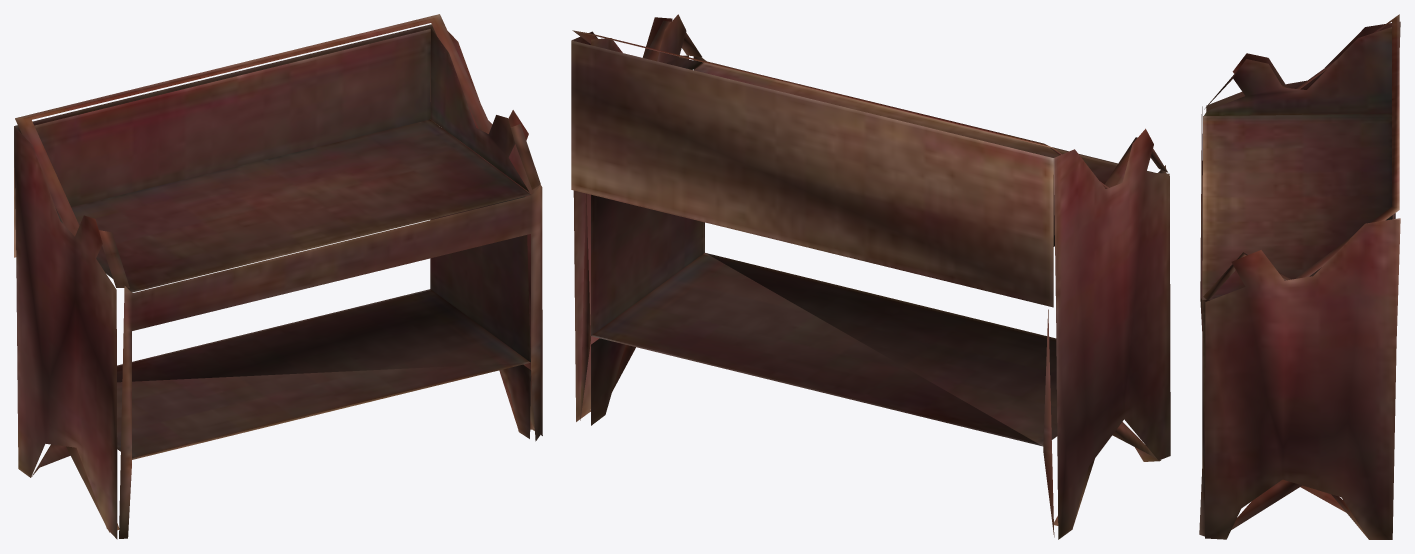
Rendered from bench-low.glb.
3 views of the same model, side by side, from view 1: azimuth 30°, elevation 25°; view 2: azimuth 150°, elevation 25°; view 3: azimuth 270°, elevation 25° (orthographic). The views are drawn at different scales.
Parts seen in each view (by area): view 1: painted_wooden_bench baked; view 2: painted_wooden_bench baked; view 3: painted_wooden_bench baked.
Part boxes in pixels (box(x1,y1,x2,y2)): painted_wooden_bench baked: box(14, 14, 542, 539); painted_wooden_bench baked: box(571, 14, 1170, 539); painted_wooden_bench baked: box(1199, 14, 1400, 539).
Size of the model in its own units: 1.14 by 0.8893 by 0.4918.
1 material, 1 textured.
